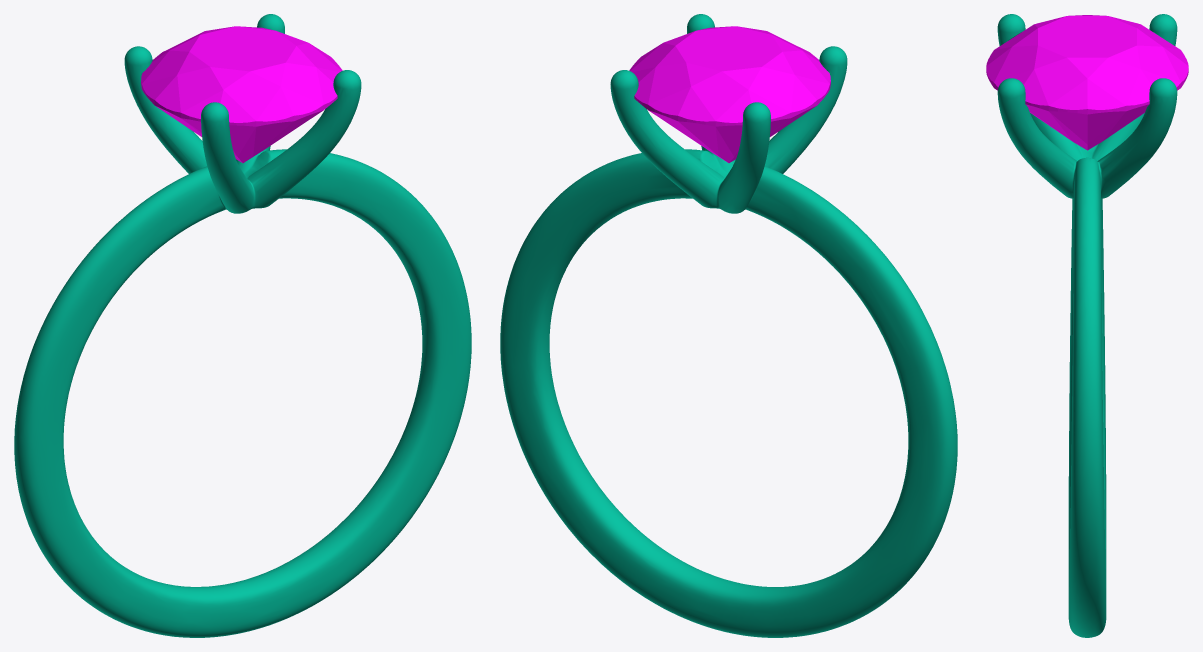
Rendered from BE14112_RD_200ct_RENDER.glb.
The picture shows the model from 3 angles, left to right: view 1: azimuth 30°, elevation 25°; view 2: azimuth 150°, elevation 25°; view 3: azimuth 270°, elevation 25°; orthographic projection.
Visible parts, largest first — view 1: Metal 01, CS_Diamond_Round; view 2: Metal 01, CS_Diamond_Round; view 3: Metal 01, CS_Diamond_Round.
Boxes of the visible parts, x1=… form: Metal 01: x1=14, y1=14, x2=471, y2=637; CS_Diamond_Round: x1=141, y1=26, x2=342, y2=162; Metal 01: x1=500, y1=14, x2=957, y2=637; CS_Diamond_Round: x1=629, y1=26, x2=830, y2=162; Metal 01: x1=997, y1=14, x2=1177, y2=637; CS_Diamond_Round: x1=986, y1=15, x2=1188, y2=150.
Bounding box in the file's own units: 20.5 × 25.16 × 8.
